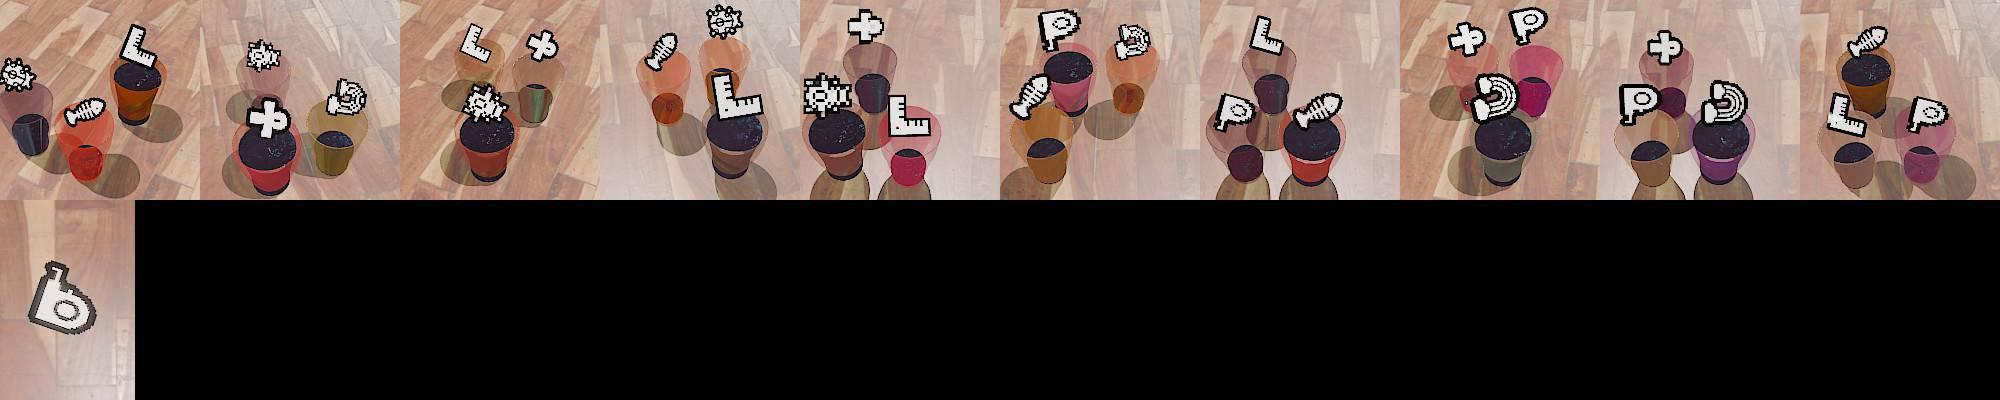icon: (27, 260, 101, 338), (708, 68, 765, 122), (1468, 71, 1519, 122), (801, 71, 856, 118), (1700, 78, 1751, 127), (885, 93, 932, 138), (1825, 89, 1869, 138), (460, 83, 511, 124), (1037, 9, 1082, 55), (1290, 92, 1343, 130), (119, 23, 159, 70), (1010, 74, 1051, 121), (1213, 90, 1258, 132), (246, 97, 291, 139), (1619, 83, 1661, 127), (1906, 96, 1952, 135), (327, 76, 369, 116), (1508, 6, 1547, 47), (1247, 14, 1286, 56), (1846, 24, 1889, 60), (459, 23, 495, 65), (1114, 22, 1152, 60), (1448, 20, 1486, 59), (1645, 28, 1684, 66), (846, 8, 885, 45), (0, 56, 38, 93), (705, 4, 745, 39), (644, 32, 679, 73), (245, 38, 282, 73), (62, 97, 105, 126), (524, 28, 560, 62)
